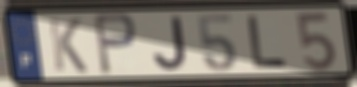5: (293, 9, 339, 72), (195, 11, 239, 74)
J: (150, 14, 190, 73)
K: (46, 16, 90, 75)
L: (245, 14, 291, 71)
P: (91, 12, 140, 78)
